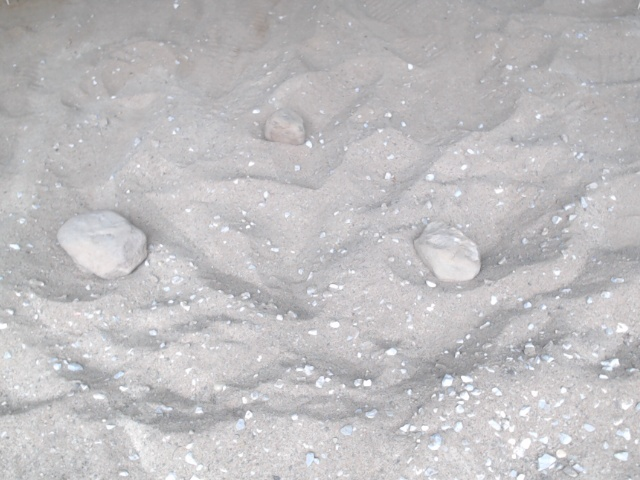rock: (51, 205, 151, 284), (409, 217, 485, 286), (259, 107, 309, 147)
